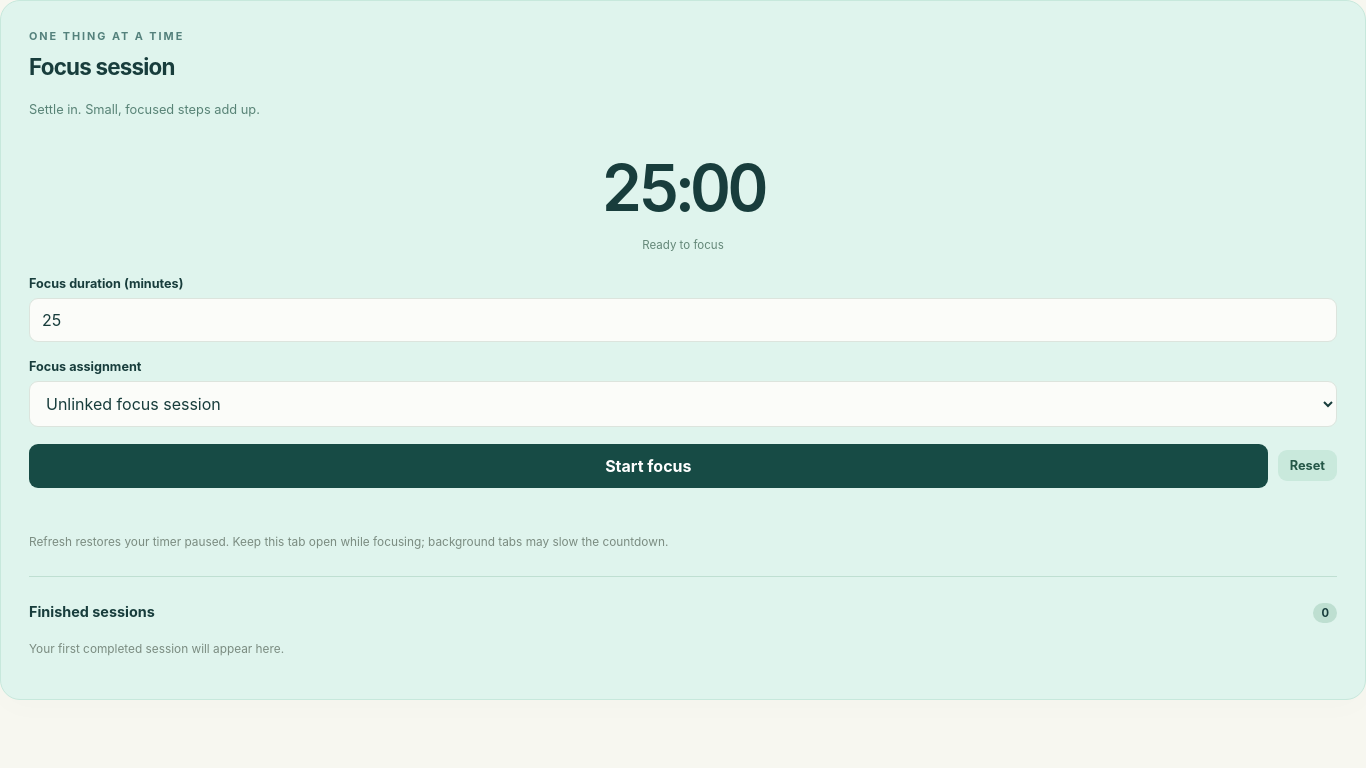
focus timer › starts pauses resumes resets and records exactly one completed session
The image size is (1366, 768).
Replace the text in the number field labelled "Focus duration (minutes)" with "1" at x=683, y=320, box [29,298,1337,342]
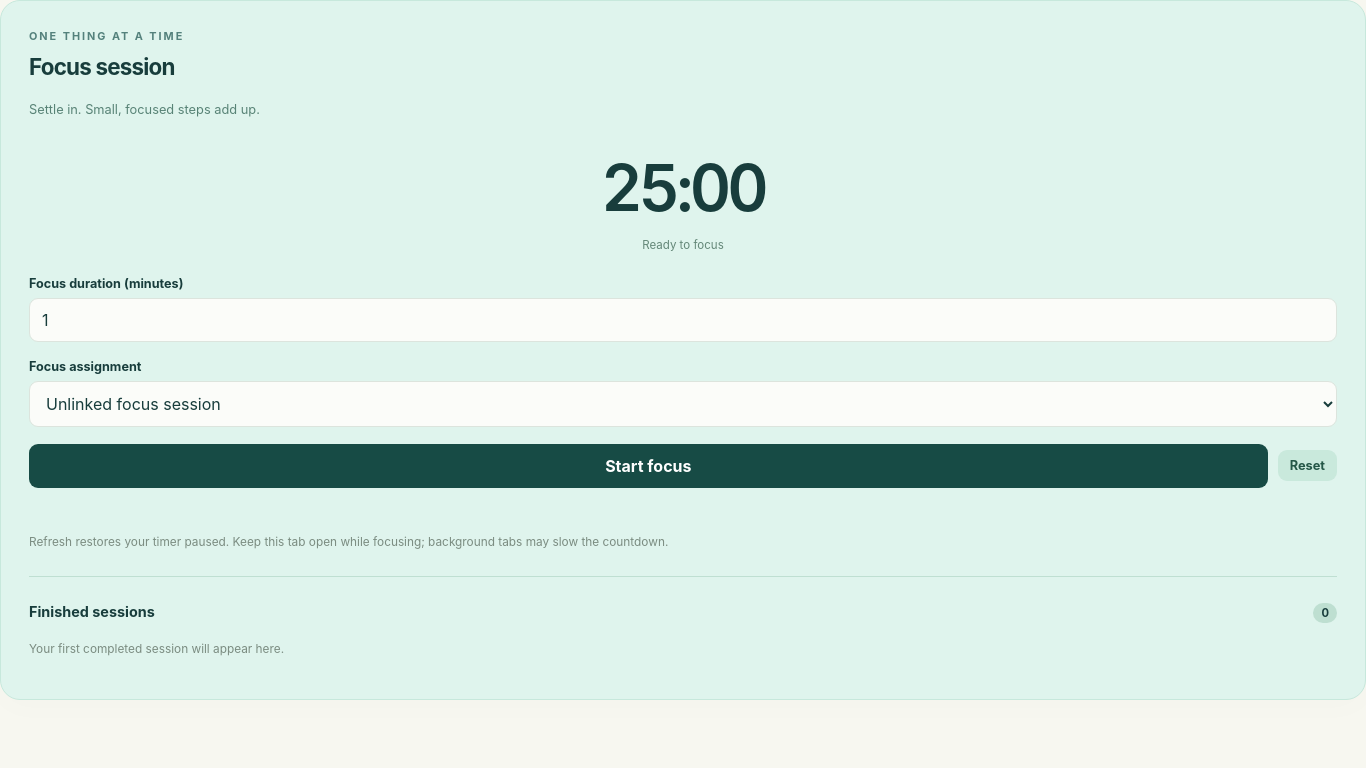
Click the button "Start focus".
click(648, 466)  # box [29,444,1268,488]
Wait 1000 ms
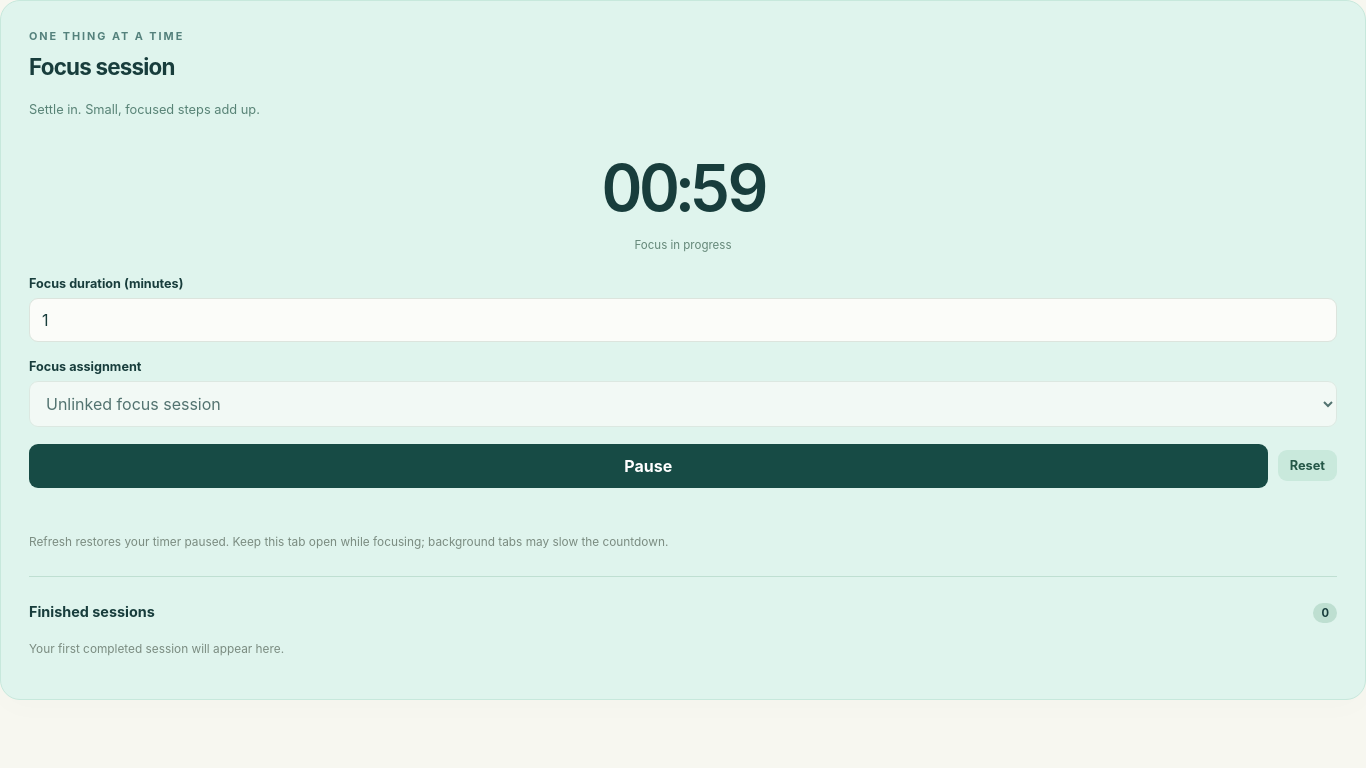
Expected: the text "00:59" is shown, [601,149,765,226]
Click the button "Pause".
click(648, 466)  # box [29,444,1268,488]
Wait 5000 ms
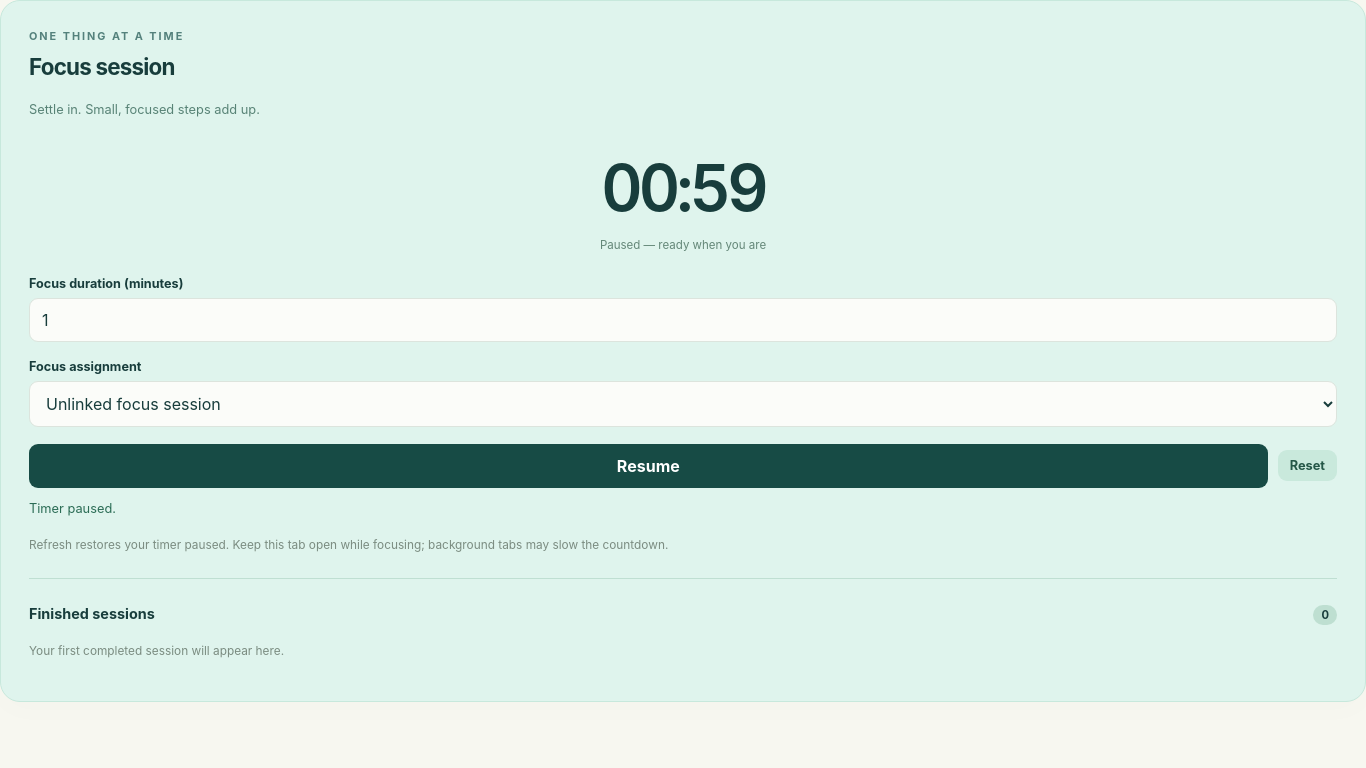
Expected: the text "00:59" is shown, [601,149,765,226]
Click the button "Resume".
click(648, 466)  # box [29,444,1268,488]
Wait 69000 ms
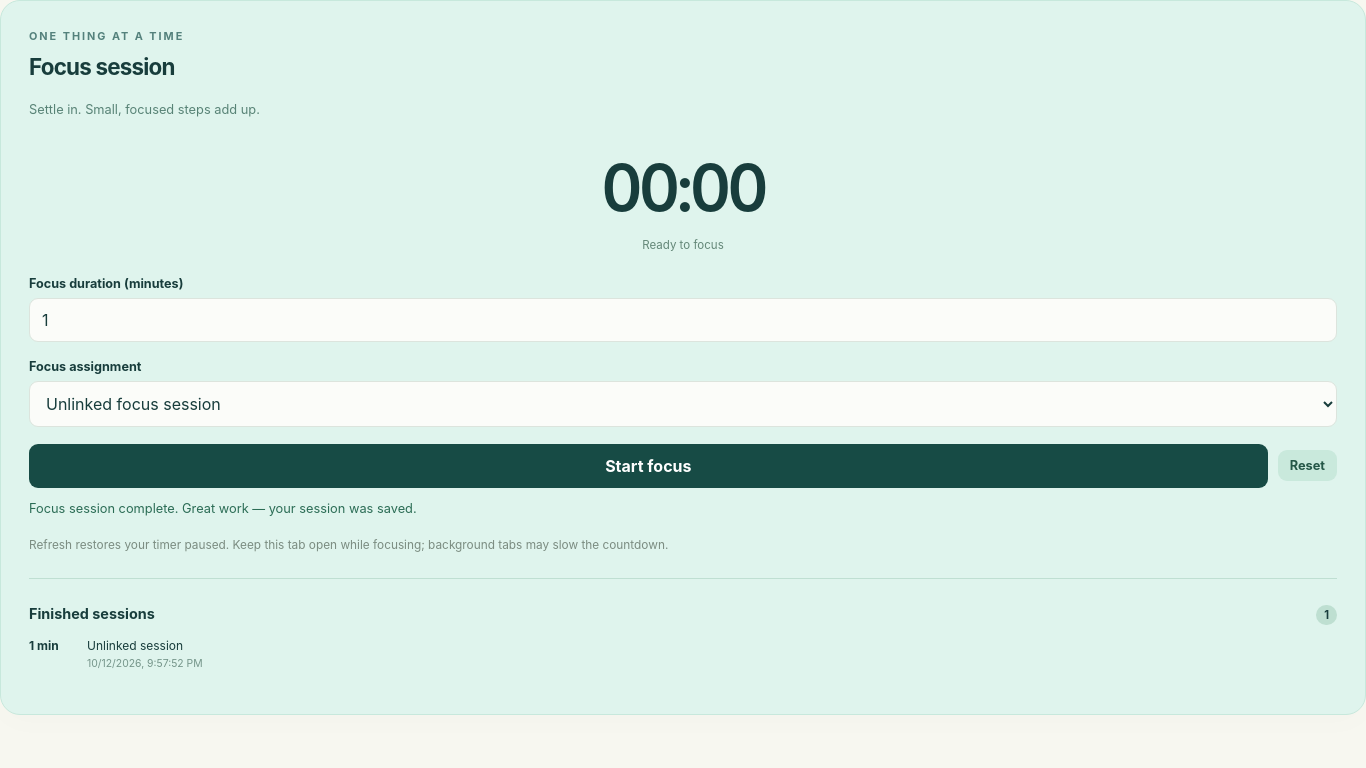
Expected: the text "00:00" is shown, [601,149,765,226]
Expected: the message shows "session was saved", [29,500,417,516]
Click the button "Reset".
click(1307, 466)  # box [1278,450,1337,481]
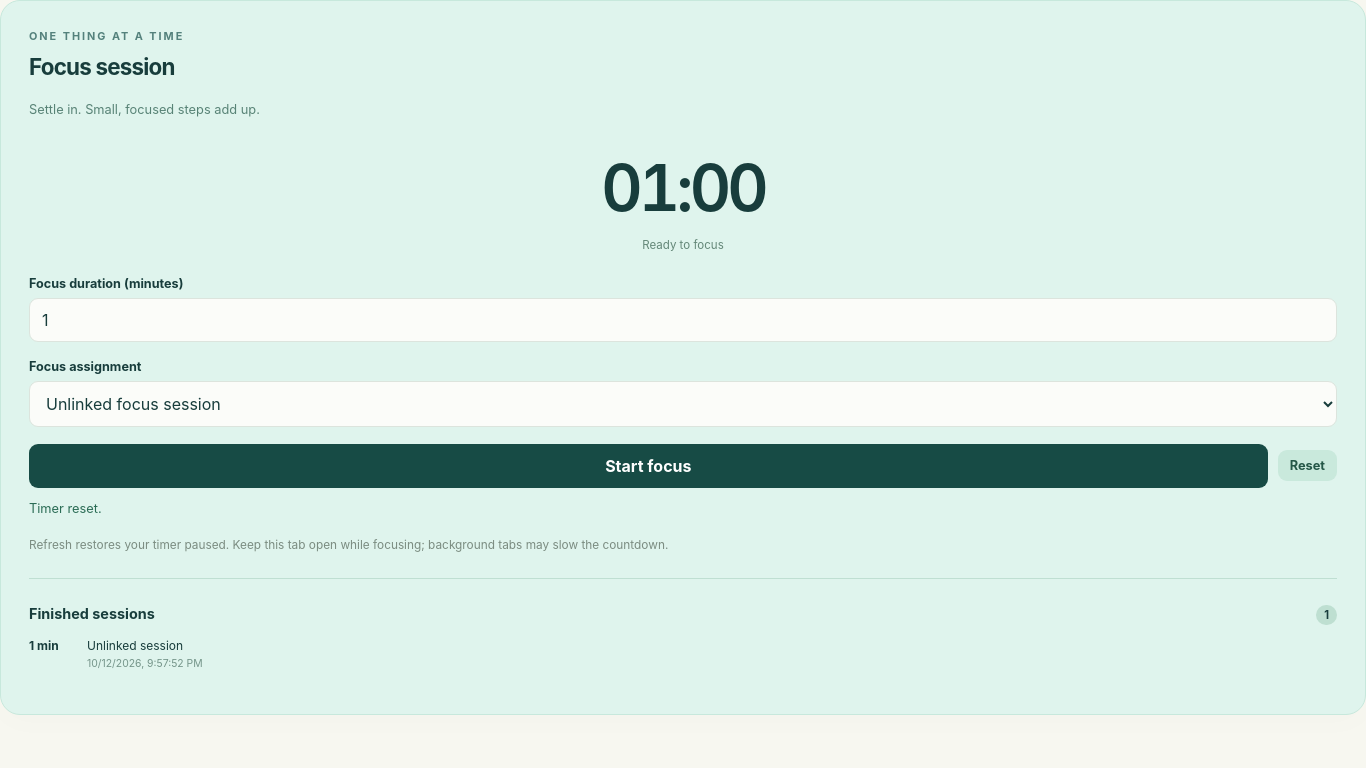
Expected: the text "01:00" is shown, [601,149,765,226]
